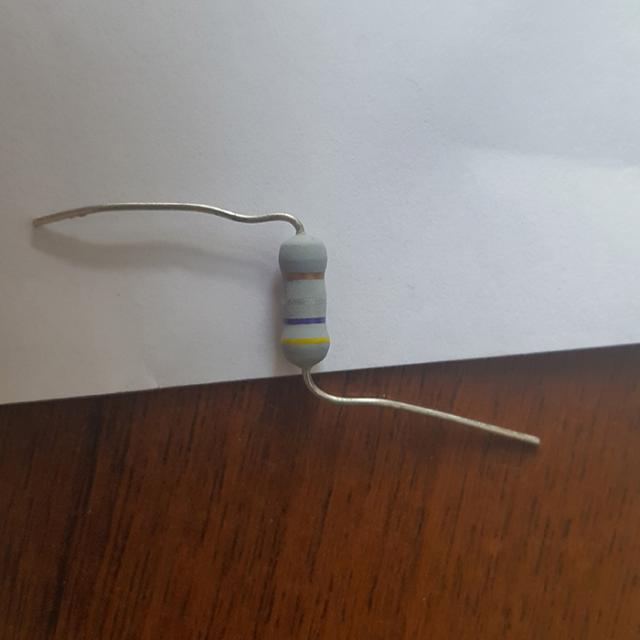Resistor Carbon-Film: (279, 232, 331, 371)
